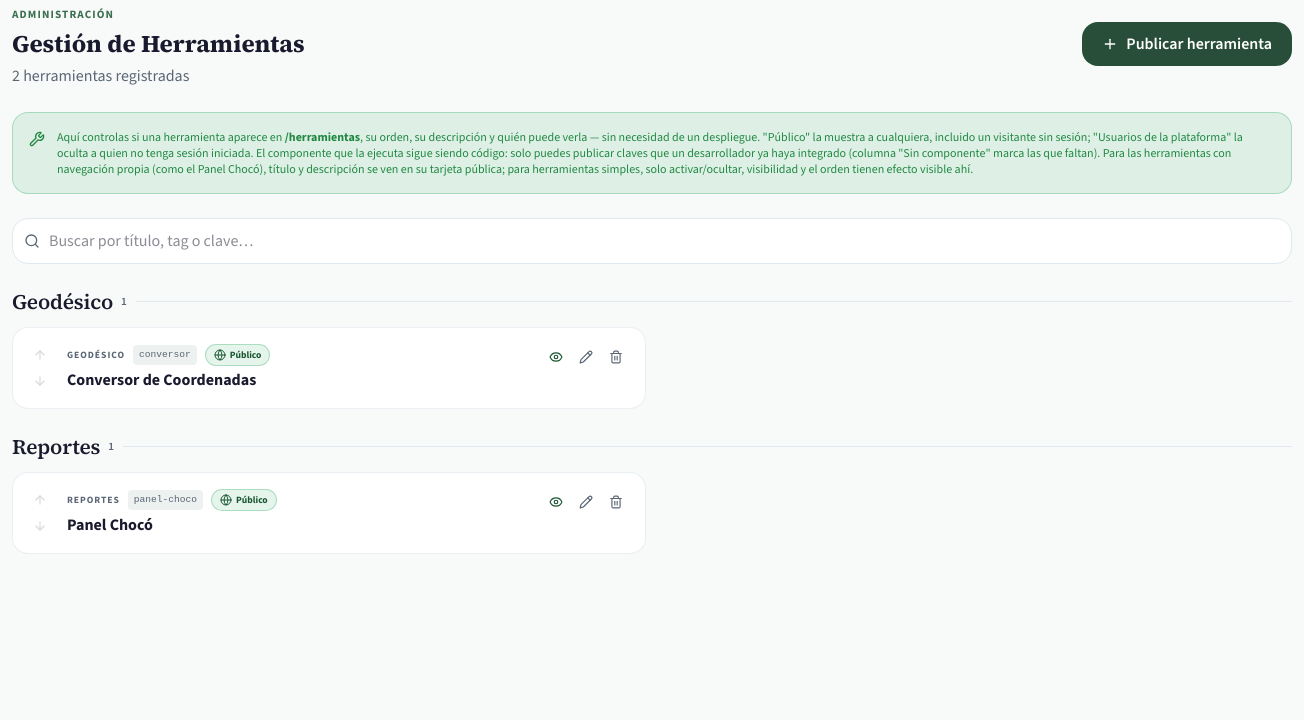
it: GestionHerramientas — buscador › filtra por título
The width and height of the screenshot is (1304, 720).
Type "Panel" into the field named "Buscar herramienta" at (652, 241), box [12, 218, 1292, 264]
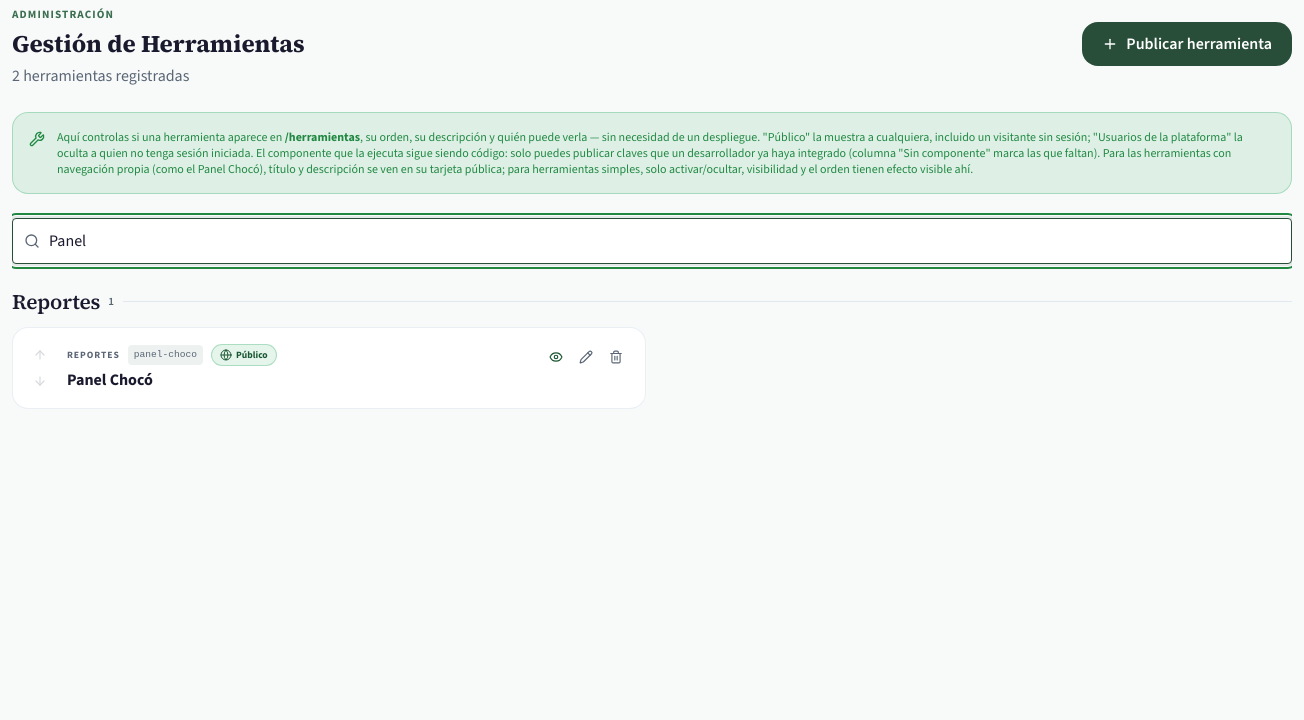
Check: the heading "Panel Chocó" is shown, box [67, 369, 153, 390]
Check: the heading "Conversor de Coordenadas" is gone
